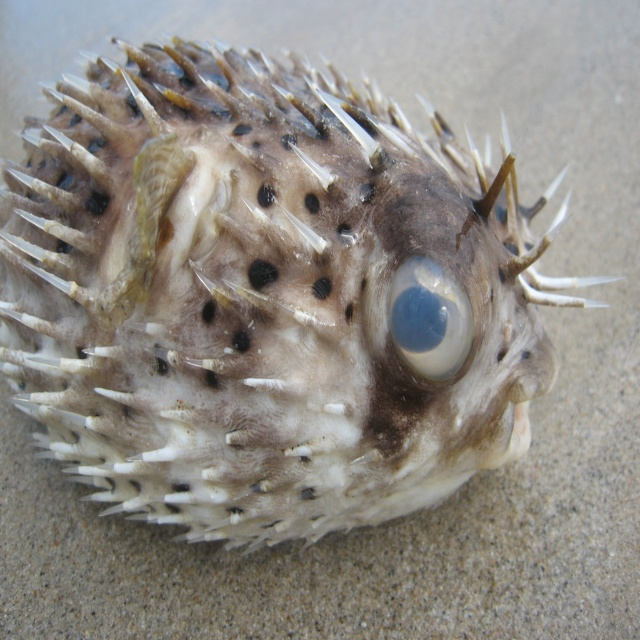Fish: (0, 27, 623, 559)
